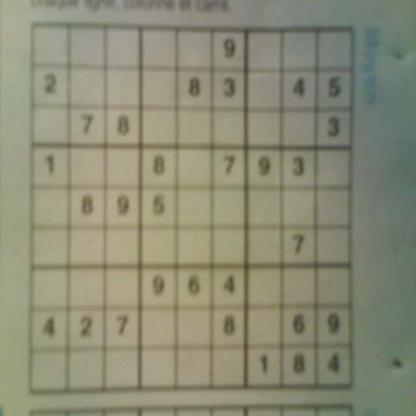sudoku: (23, 18, 362, 400)
